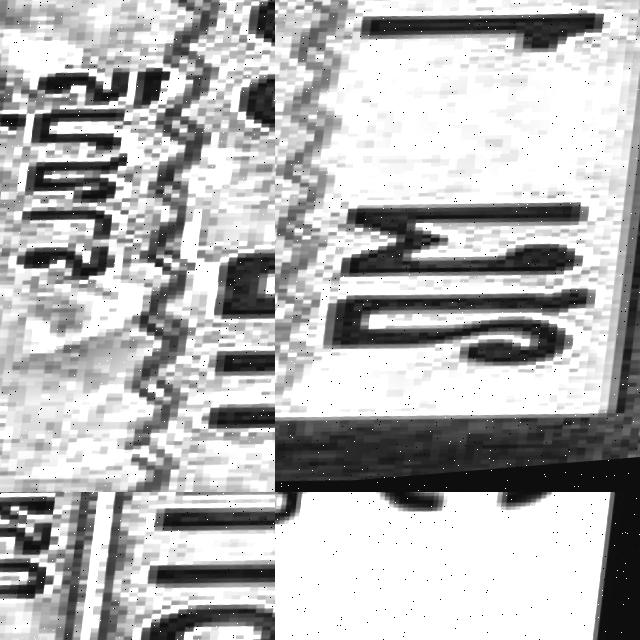license-plate: (275, 0, 640, 492), (0, 0, 275, 492), (275, 492, 640, 640), (0, 492, 275, 640)
